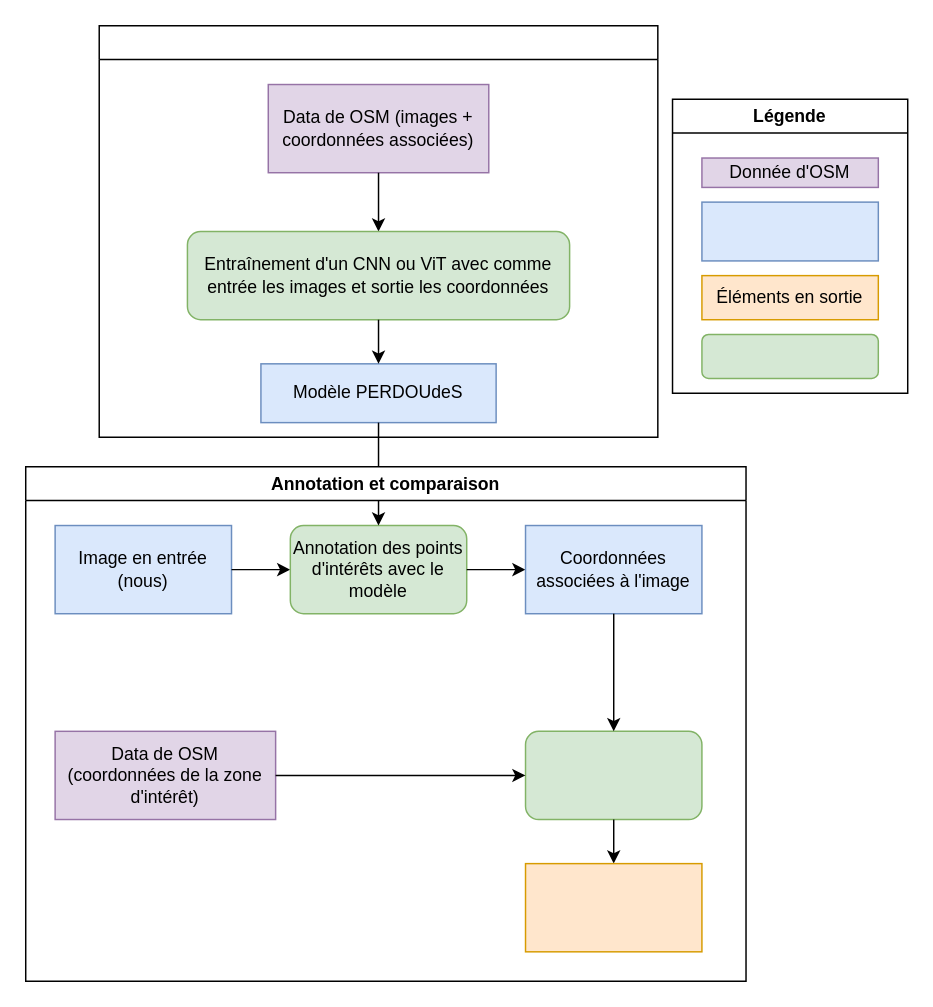
The diagram is 933 pixels wide and 1007 high, and some of its shapes have lost their labels. The box of each missing label's shape, as (x1, y1, x2, y2) in pixels:
Comparaisons des données (Modèle mathématique ou régresseur linéaire): (524, 730, 702, 820)
Entraînement: (98, 24, 658, 437)
Score de changement et/ou recommandations utilisateur: (524, 862, 702, 952)
Scripts: (700, 333, 878, 379)
Éléments nous appartenants: (700, 201, 878, 261)
